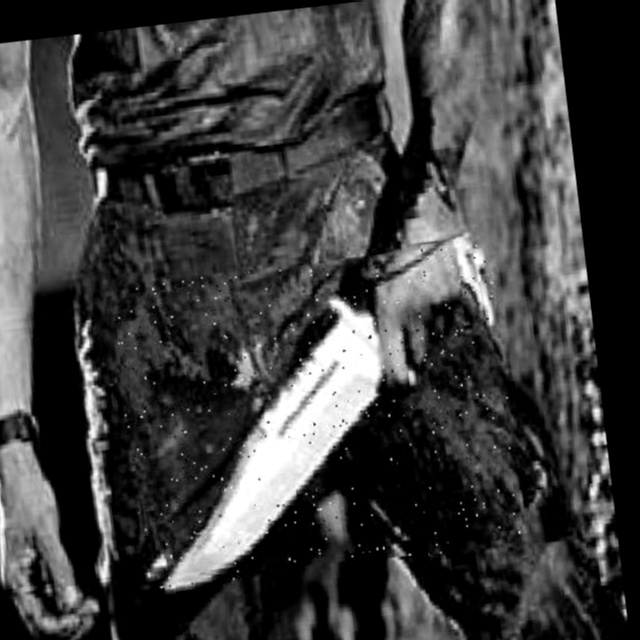Sharp-Object: (110, 241, 525, 590)
